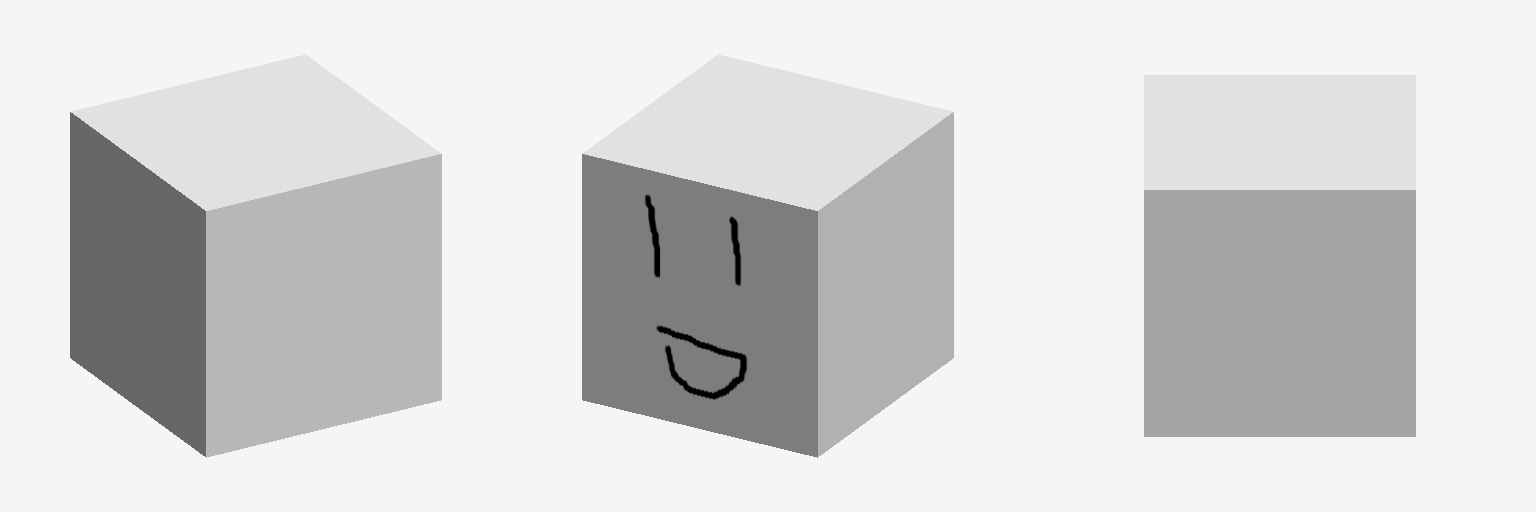
The picture shows the model from 3 angles: view 1: azimuth 30°, elevation 25°; view 2: azimuth 150°, elevation 25°; view 3: azimuth 270°, elevation 25°; orthographic projection.
Visible parts, largest first — view 1: face; view 2: face; view 3: face.
Part boxes in pixels (left/top/right/bottom): face: left=70, top=54, right=441, bottom=457; face: left=582, top=54, right=953, bottom=457; face: left=1144, top=75, right=1415, bottom=436.
Bounding box in the file's own units: 1.5 × 1.5 × 1.5.
1 materials, 1 textured.